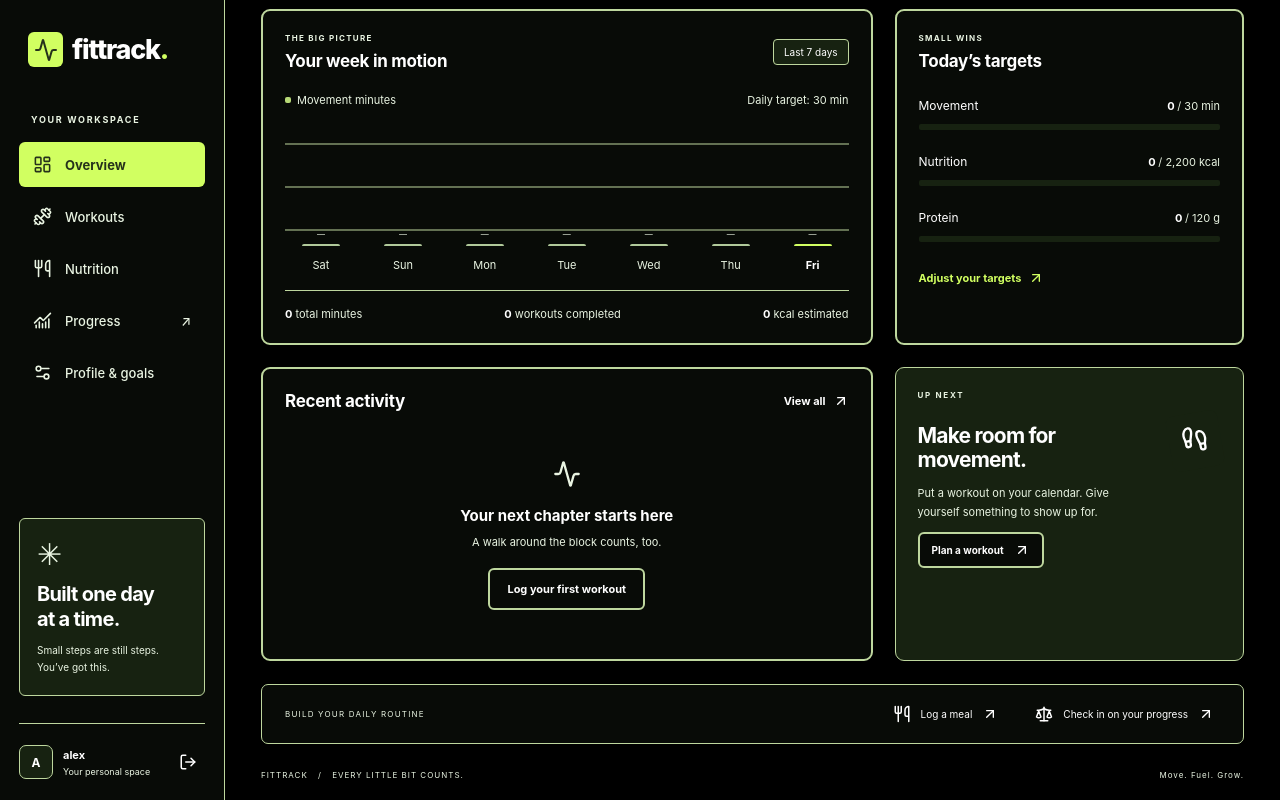
keeps a failed meal submission open and preserves the entered values
(page scrolled)
Click the button "Log a meal" at (946, 714), box [887,704,1004,724]
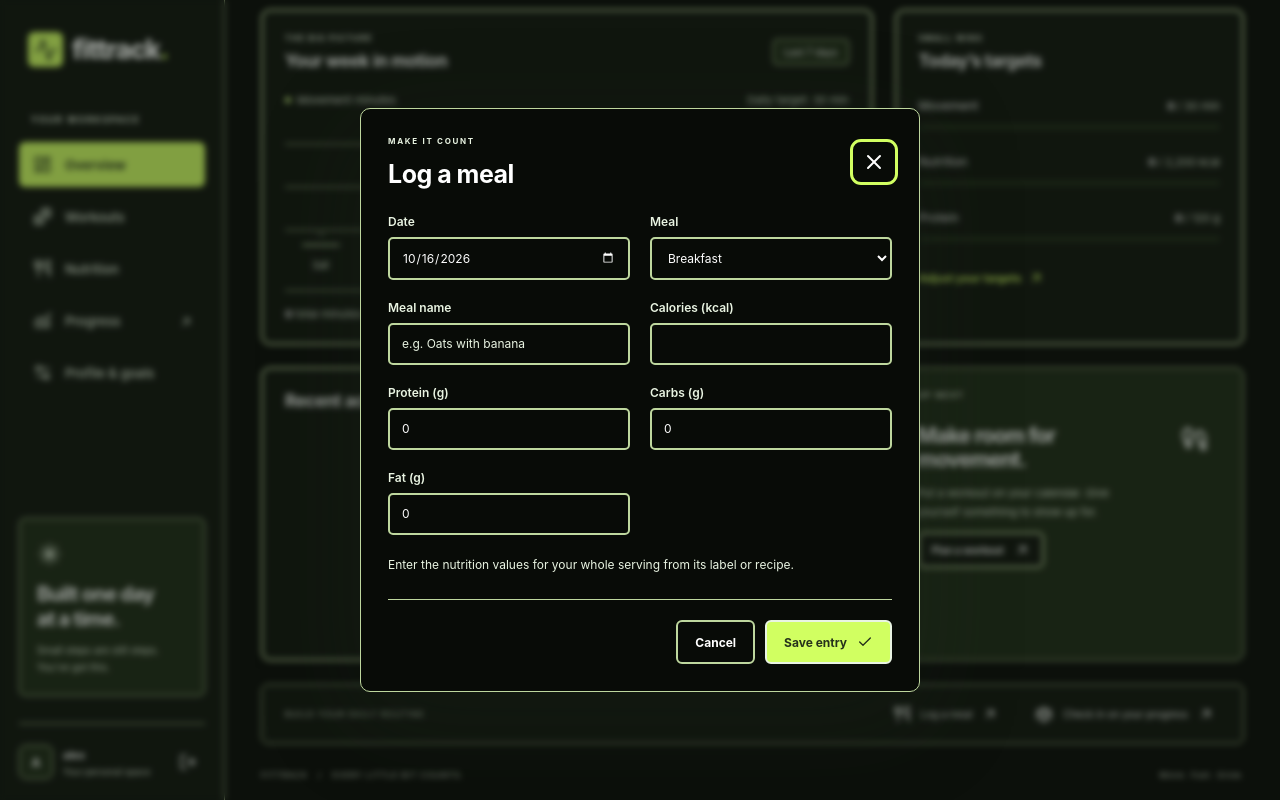
Type "Oats" into the field labelled "Meal name" at (509, 344), box [388,323,630,365]
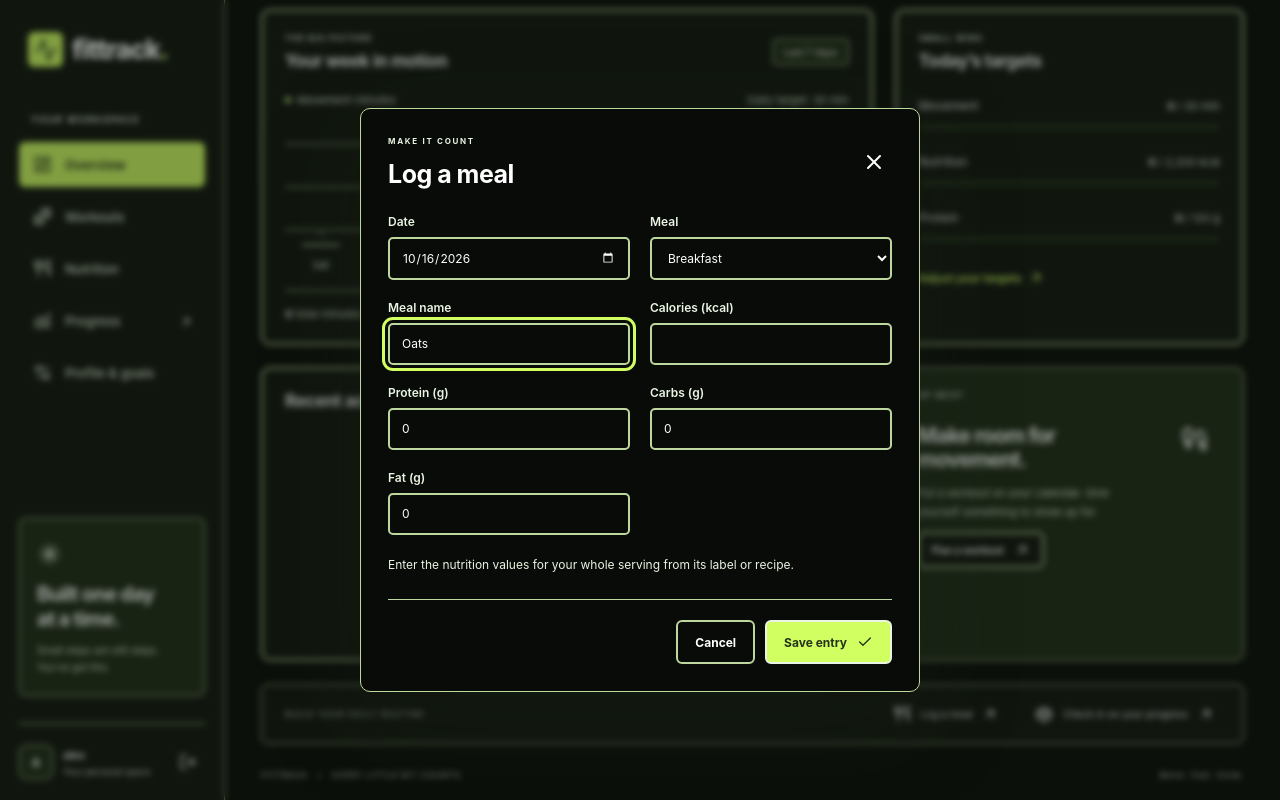
Type "350" into the number field labelled "Calories (kcal)" at (771, 344), box [650,323,892,365]
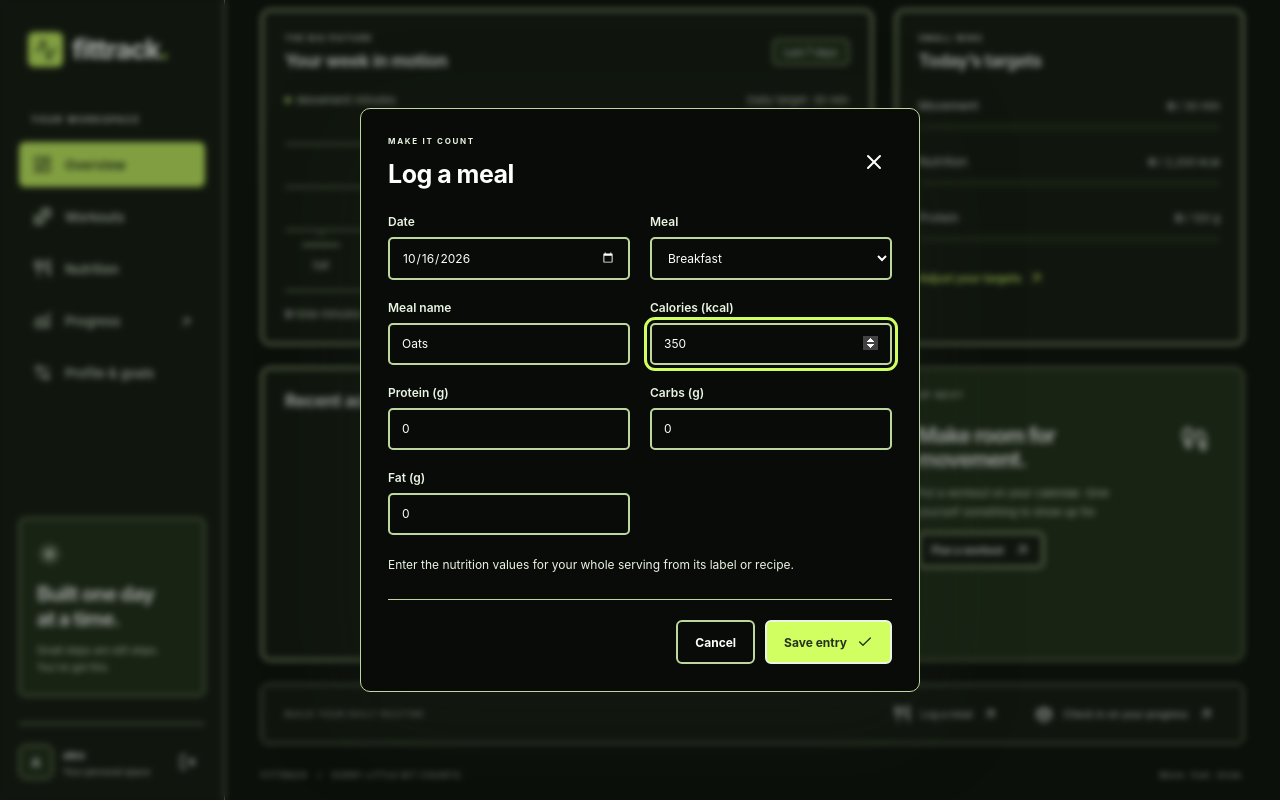
Click the button "Save entry" at (829, 642), box [765,620,892,664]
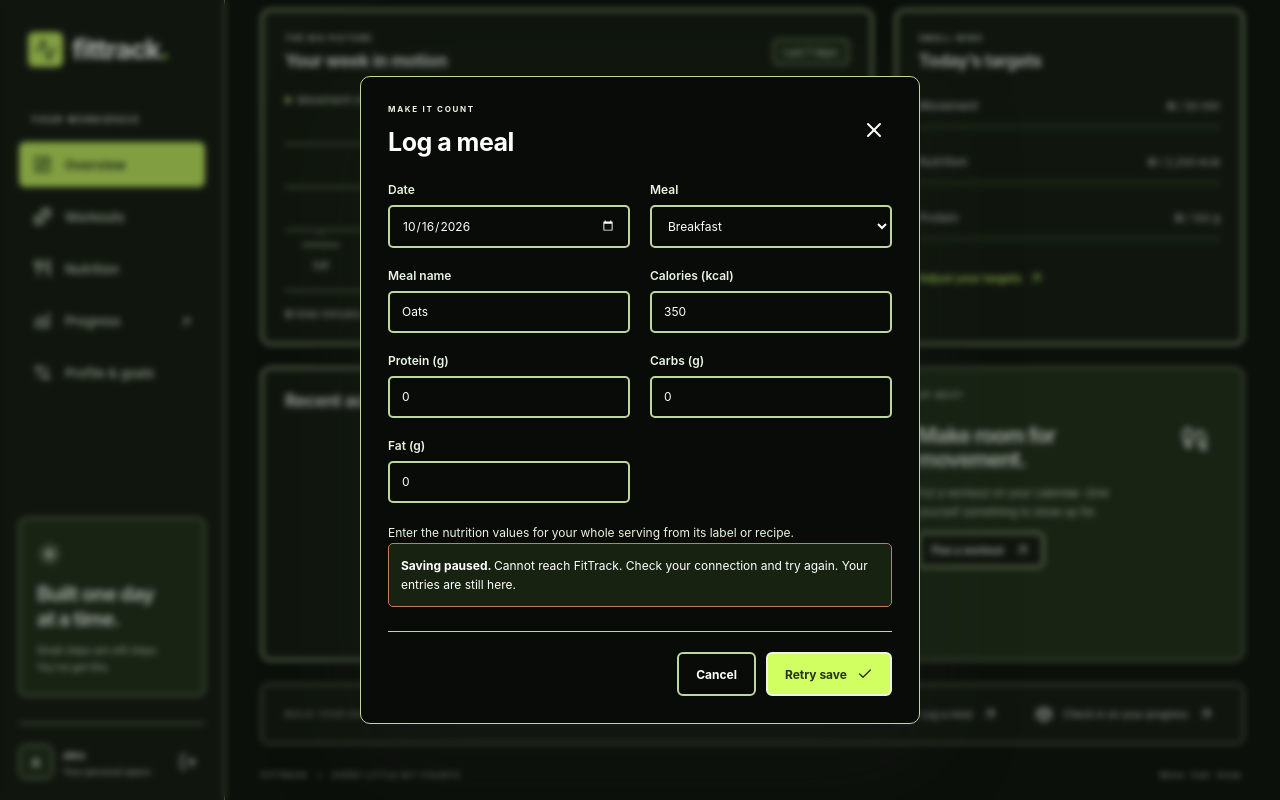
Now the dialog is shown, box [360,76,920,724]
Now the message shows "Cannot reach FitTrack", box [494,558,838,573]
